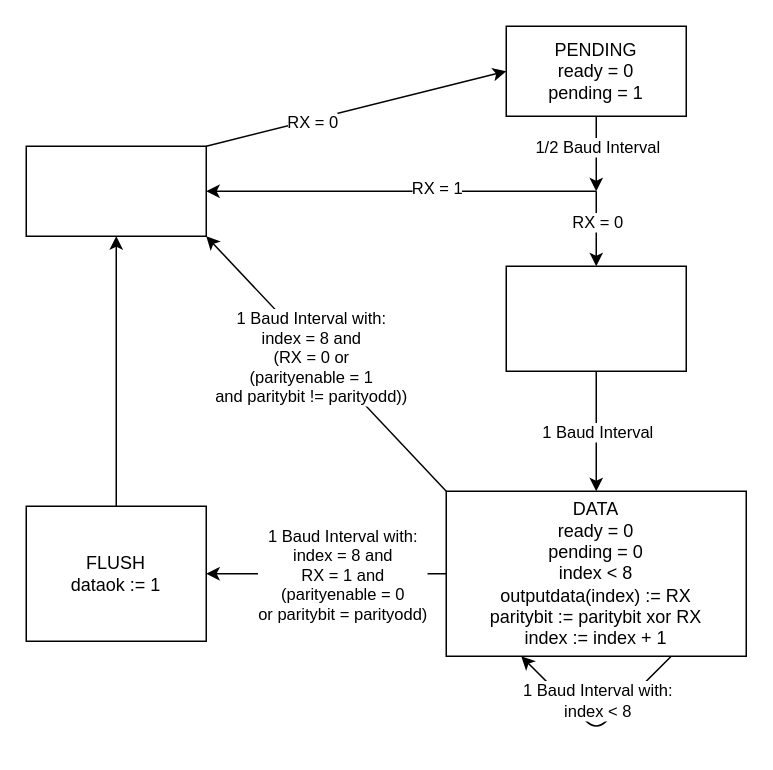
Image size: 773x770. Some labels were removed from this diagram. Each missing label, with the centre of its shape:
"IDLE ready = 1 pending = 0" belongs at (x=115, y=190).
"START ready = 0 pending = 0 index = 0 paritybit := 0" belongs at (x=595, y=318).
